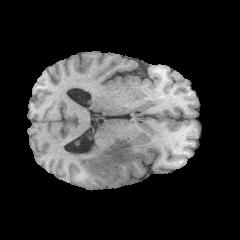glioma: (65, 138, 132, 180)
